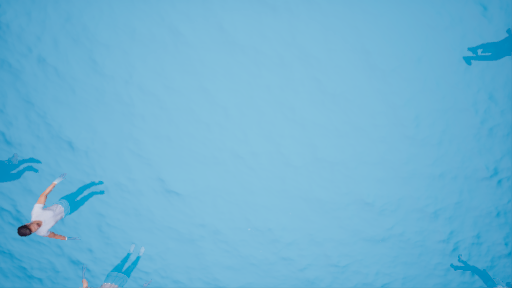person: (14, 172, 111, 243), (460, 14, 512, 68), (82, 248, 151, 288)
